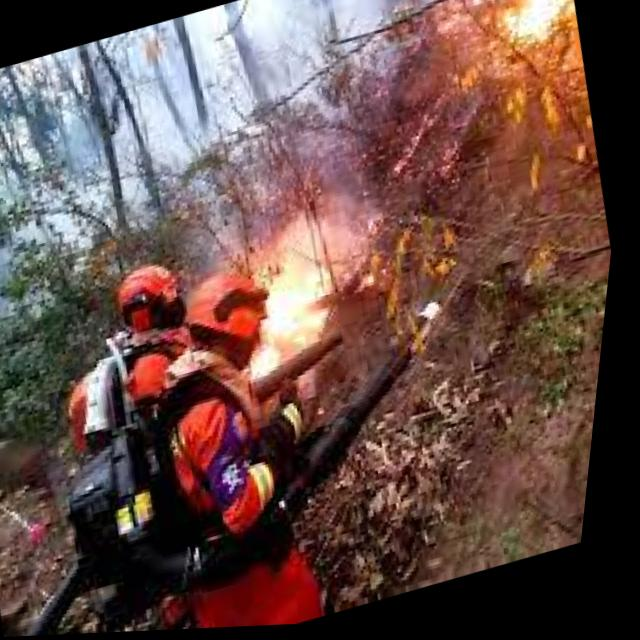Fire: (167, 179, 426, 464)
